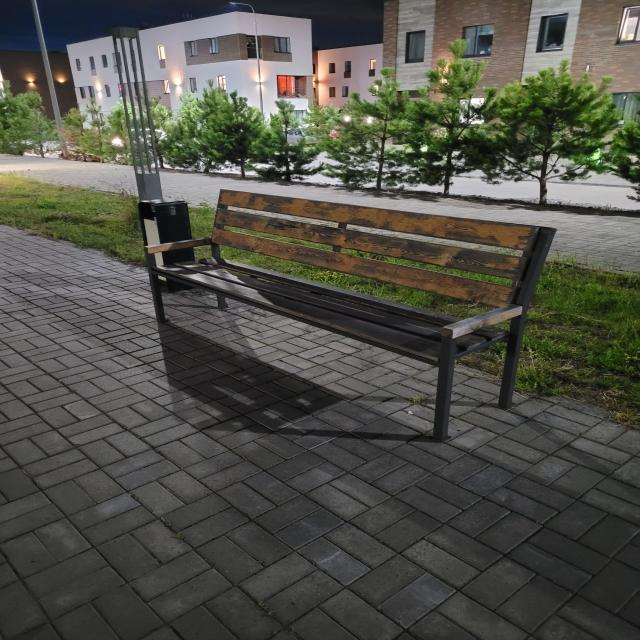Bench: (144, 189, 556, 442)
